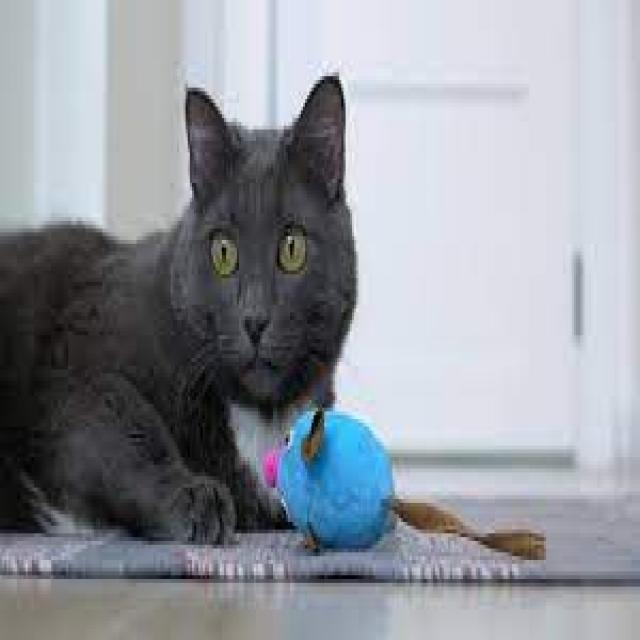Cat: (0, 71, 359, 546)
